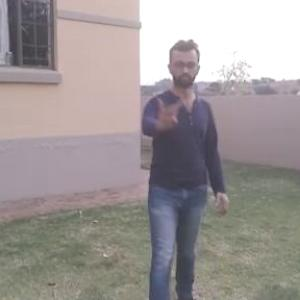takeoff-hand: (150, 82, 186, 132)
